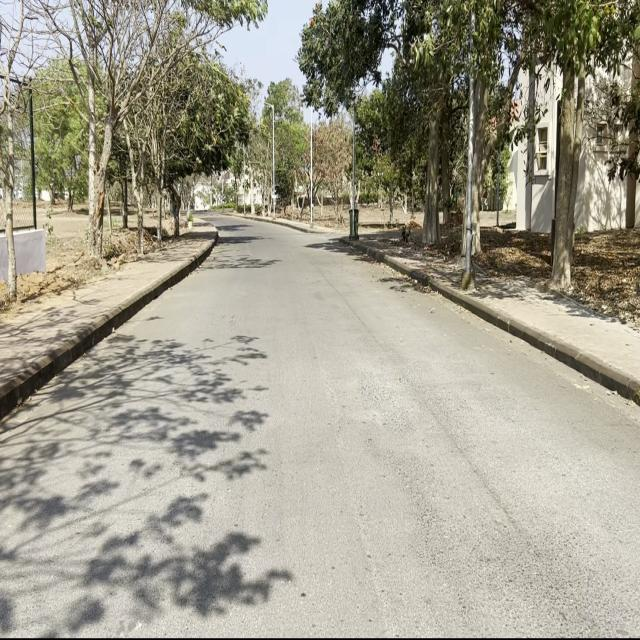Road: (3, 215, 636, 627)
